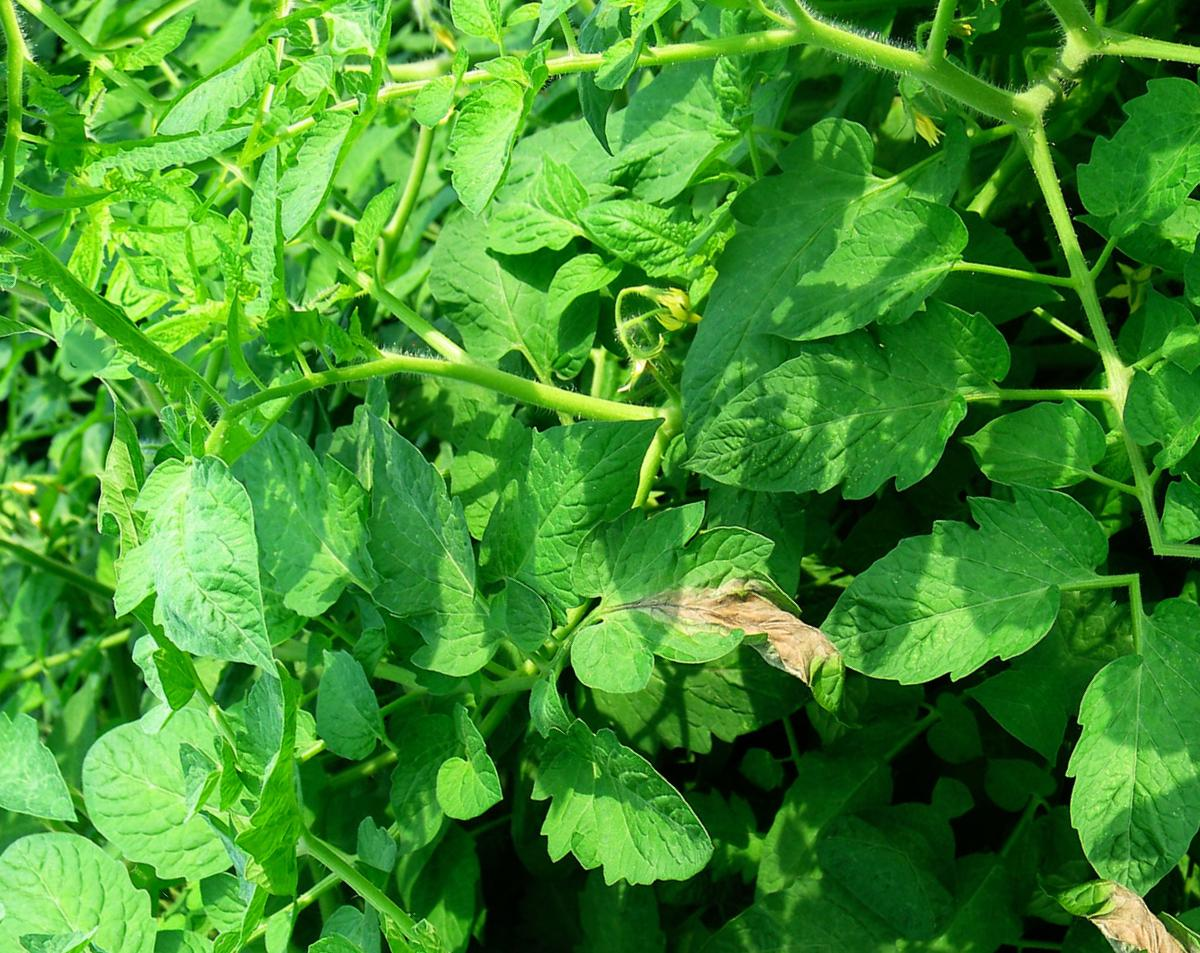Tomato leaf late blight: (669, 220, 1054, 613), (249, 380, 605, 722), (813, 425, 1137, 763), (543, 469, 846, 772), (159, 396, 444, 668), (462, 677, 746, 948), (748, 152, 995, 402), (49, 671, 291, 906), (946, 352, 1131, 537), (410, 51, 574, 227)
